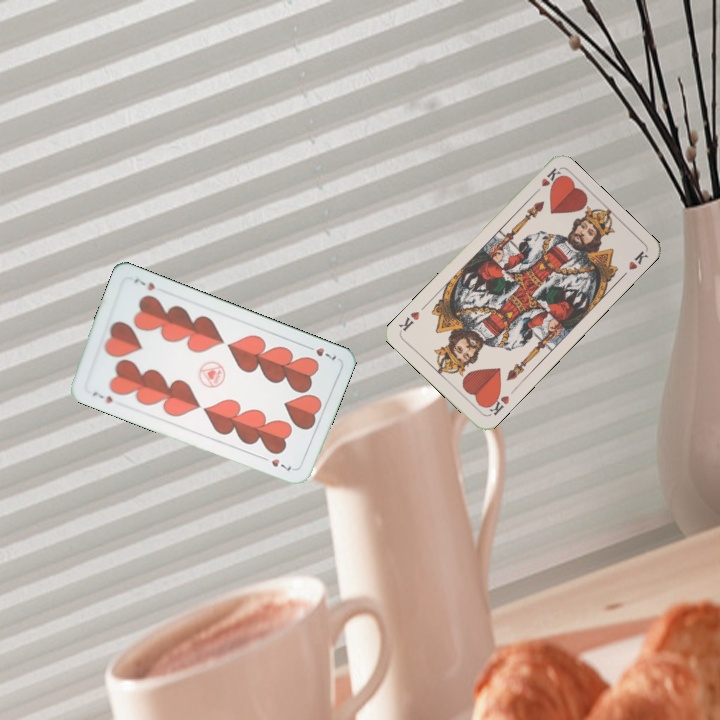H7: (301, 341, 339, 365), (88, 386, 115, 406)
HK: (529, 164, 563, 198), (482, 389, 512, 418)
